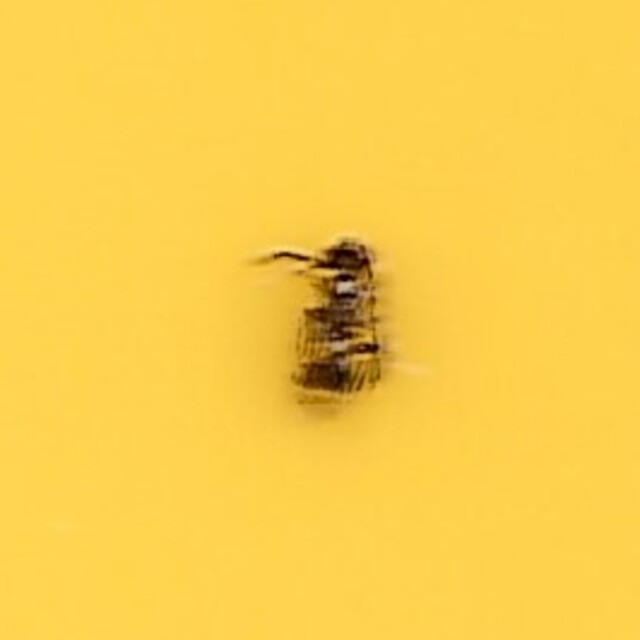Hymenoptera: (241, 231, 399, 409)
